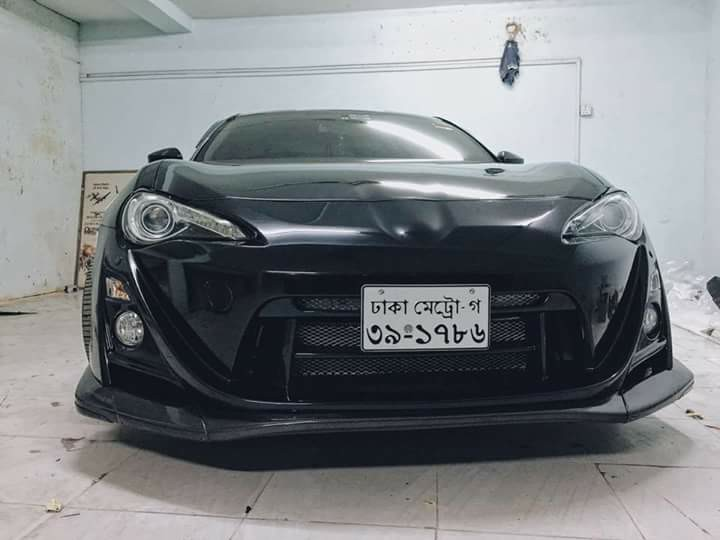registration_plate: (360, 282, 491, 351)
